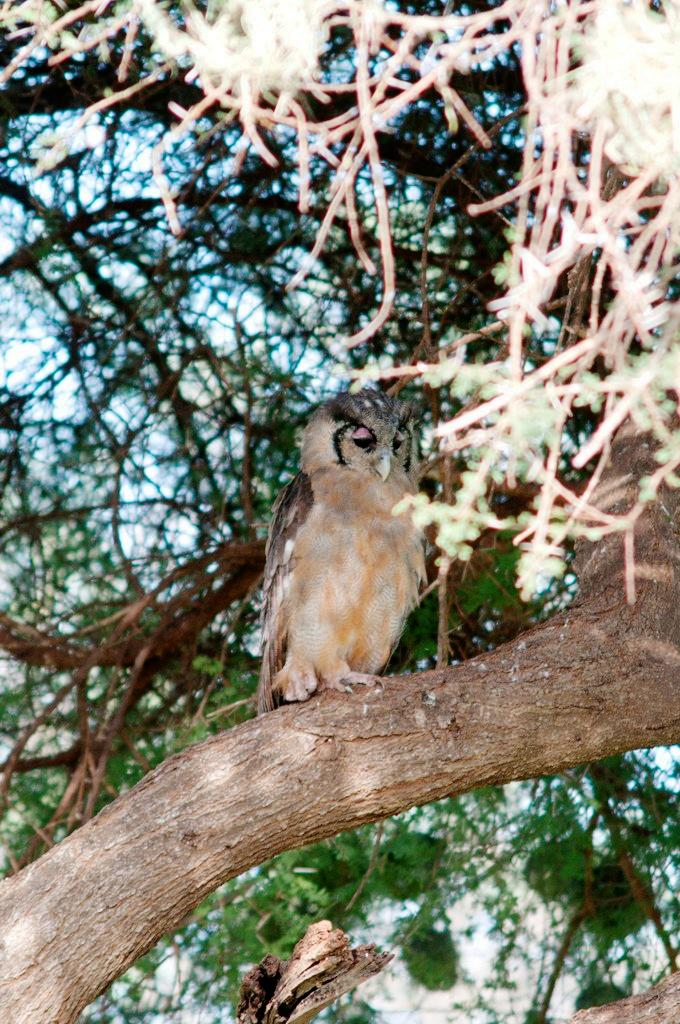Owl: (258, 391, 429, 715)
